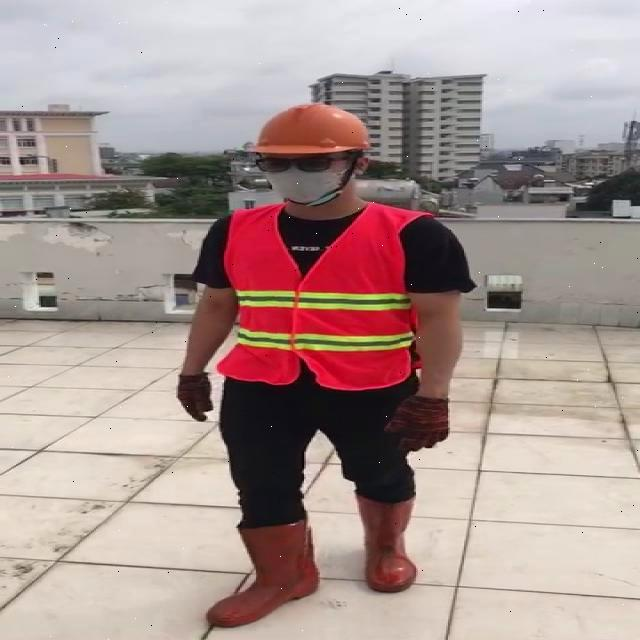Hard_hat: (242, 101, 375, 171)
Vest: (222, 199, 412, 394)
